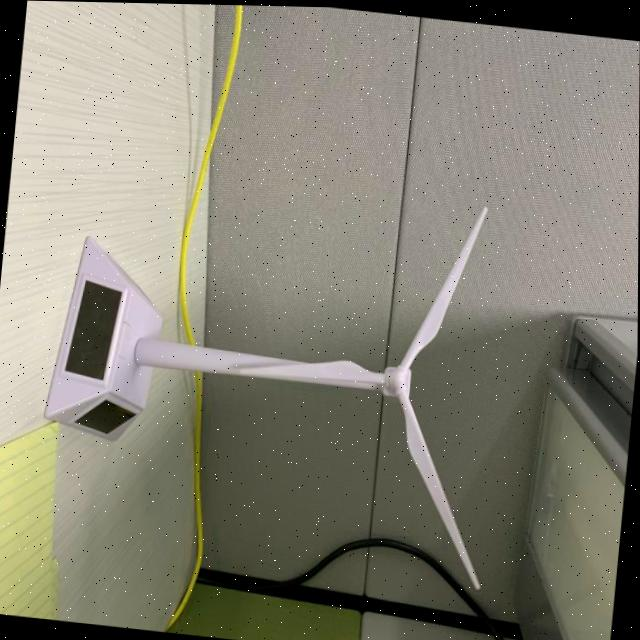solid-blade: (400, 393, 481, 586), (399, 204, 486, 367)
